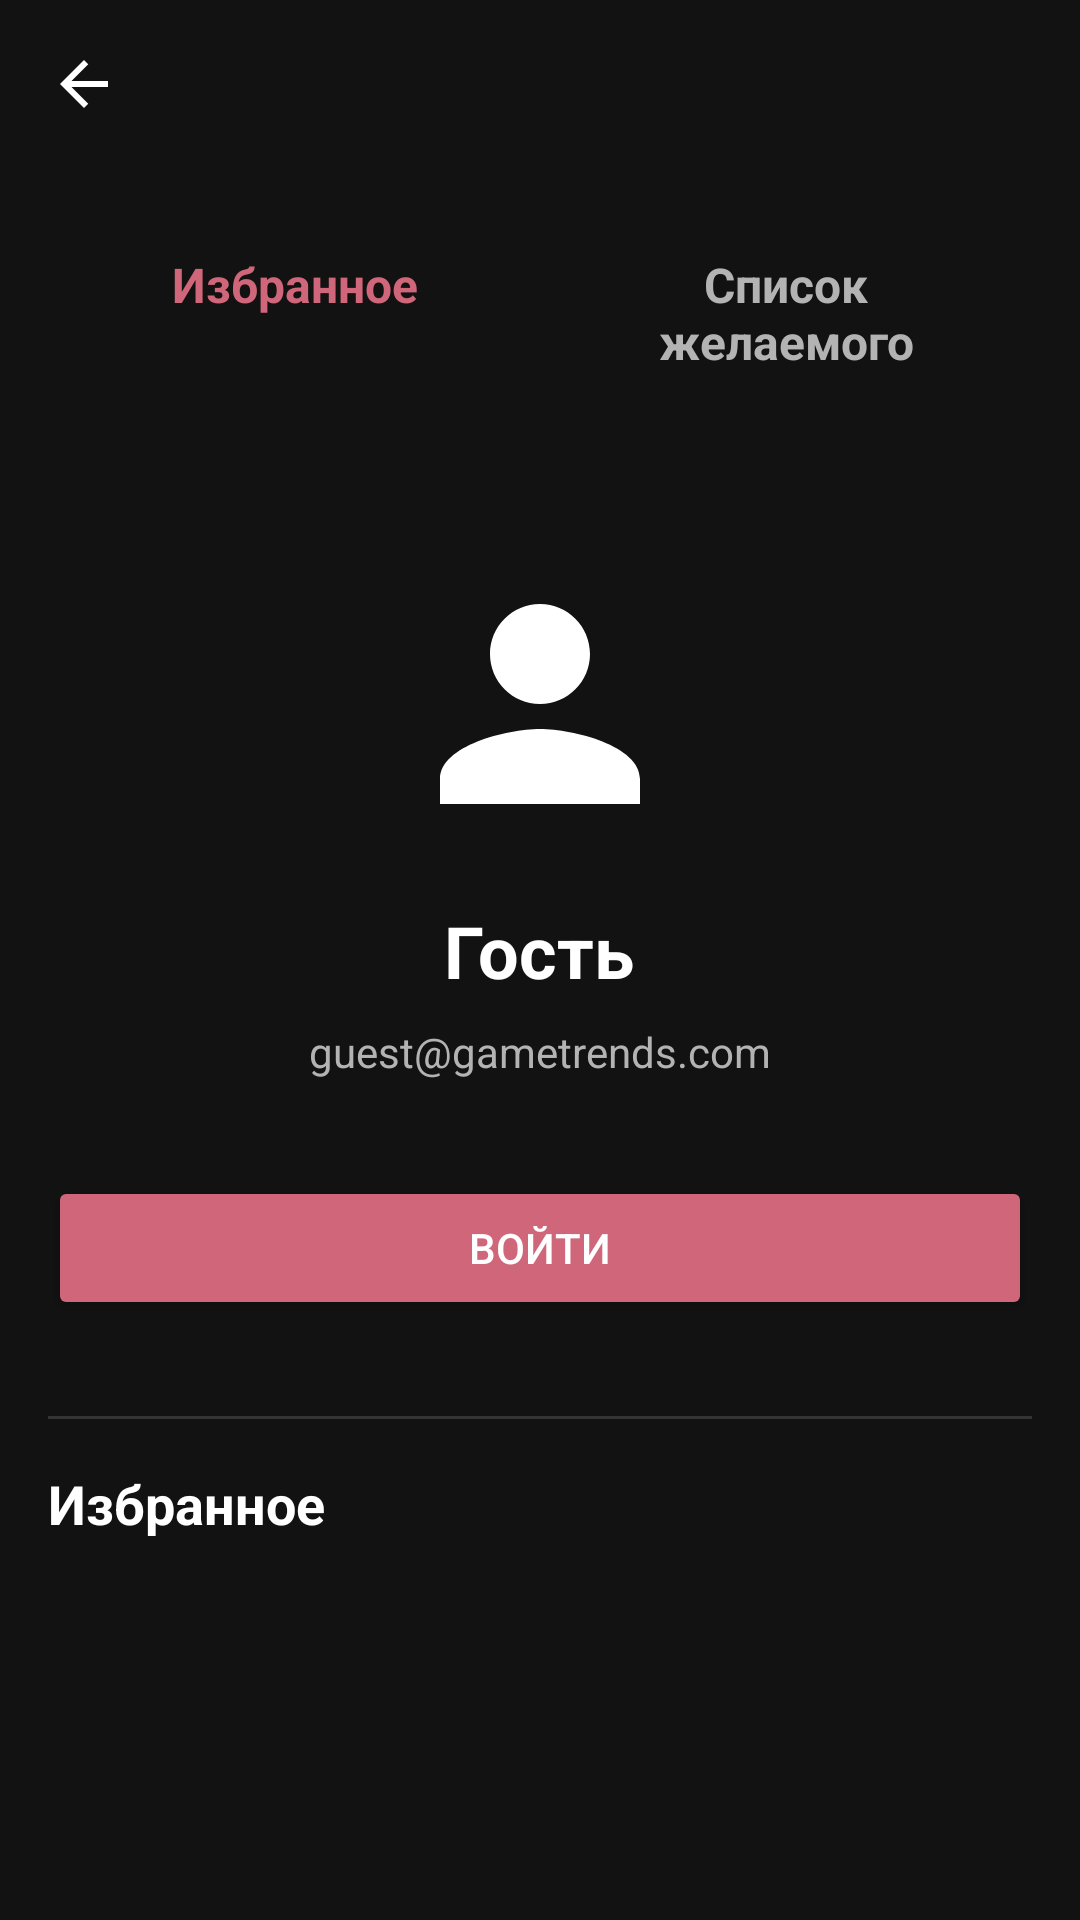

Where to tap for icons on this 1080×1920 app screen, as point (x, y):
profile: point (540, 704)
